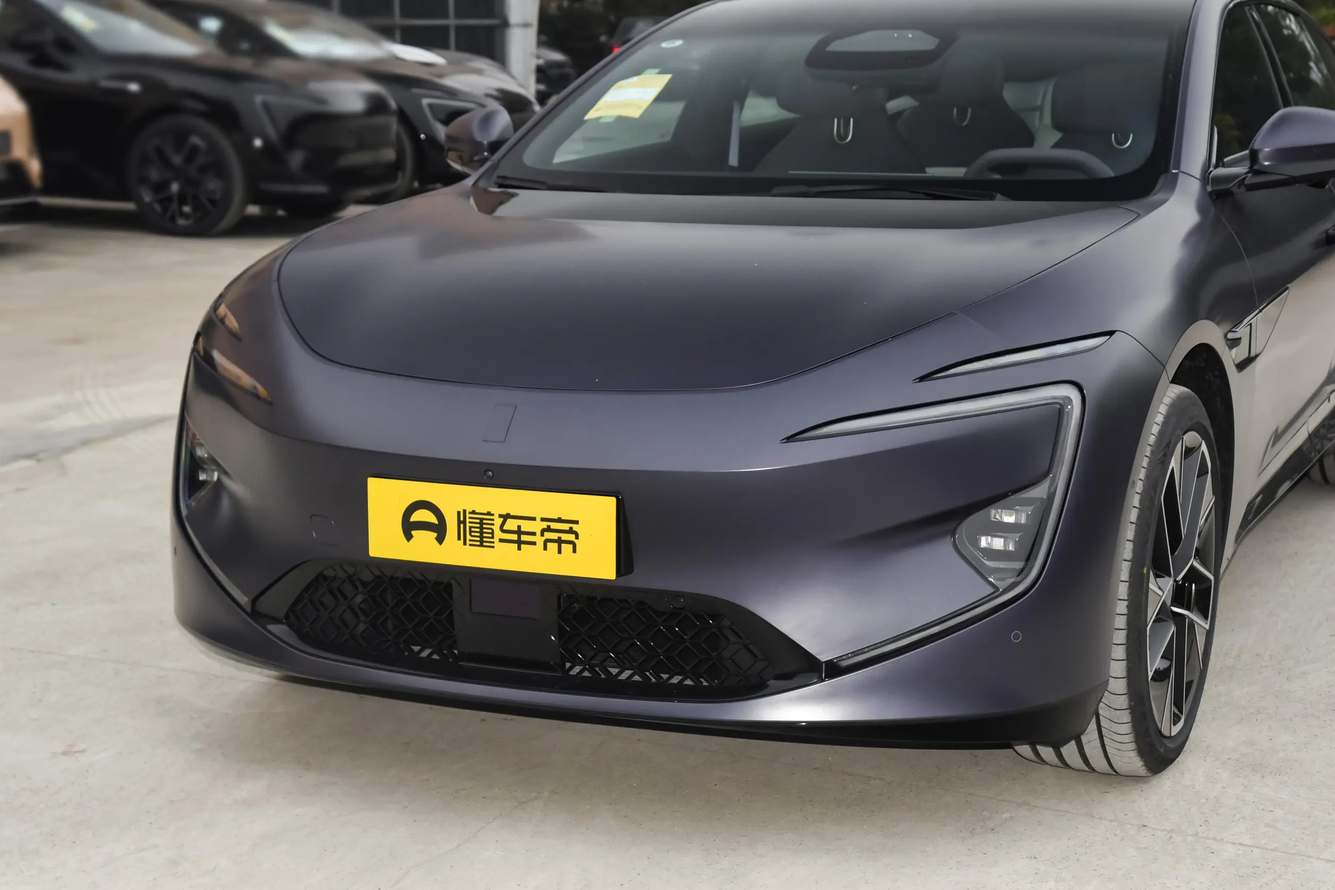AVATR: (482, 404, 516, 442)
